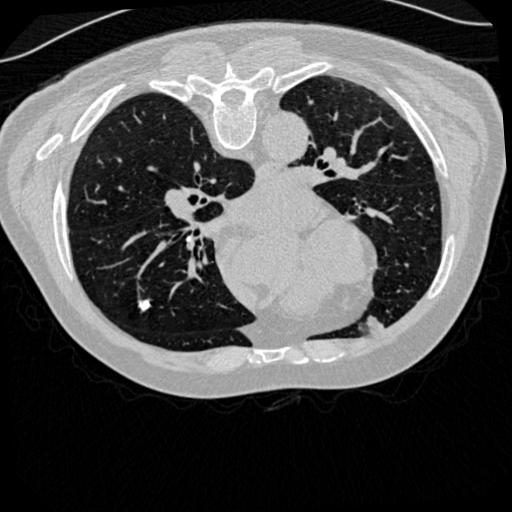nodule: (136, 298, 152, 314)
